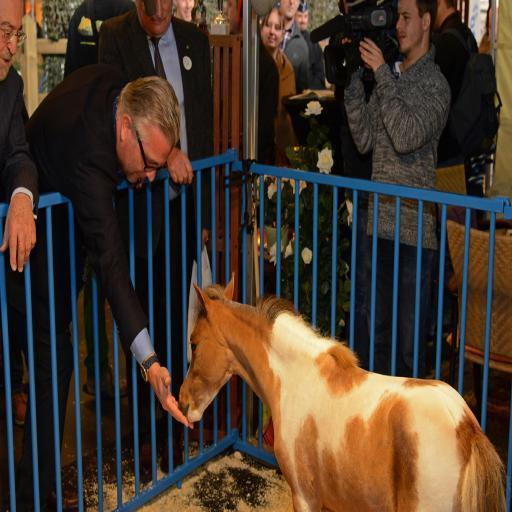horse: (176, 268, 508, 512)
